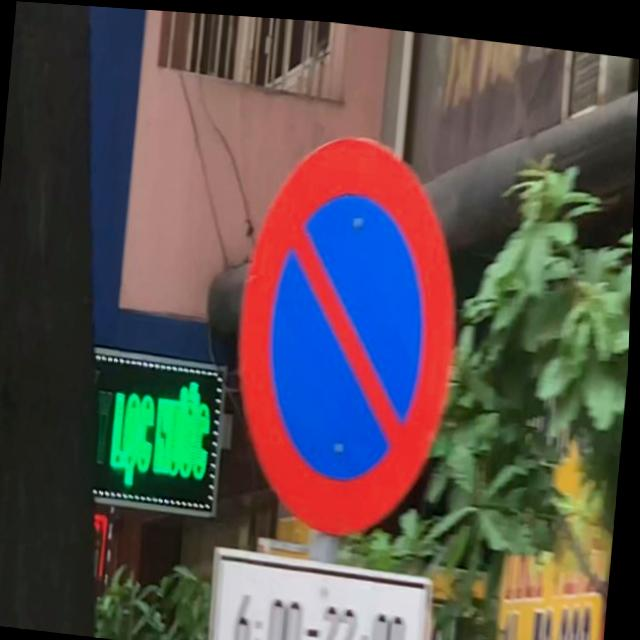Cam do xe: (245, 126, 464, 531)
